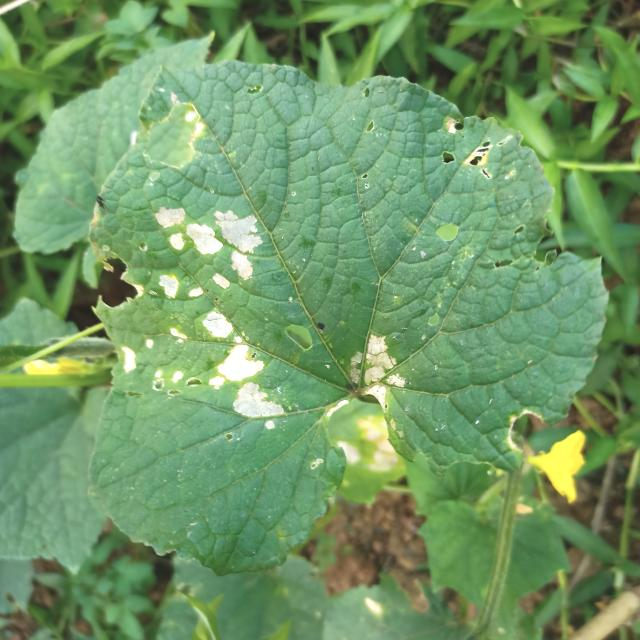disease_cucumber: (108, 300, 292, 436), (132, 186, 270, 300), (339, 329, 414, 419)
